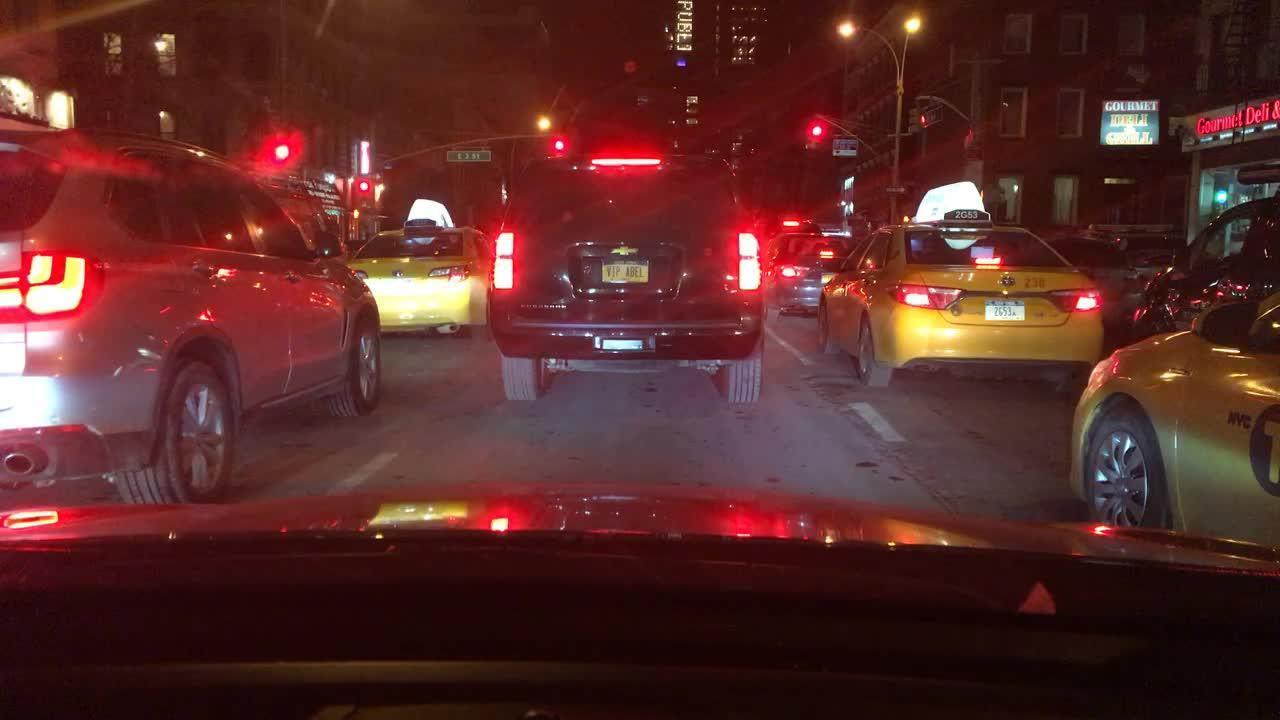chevrolet: (609, 234, 652, 262)
